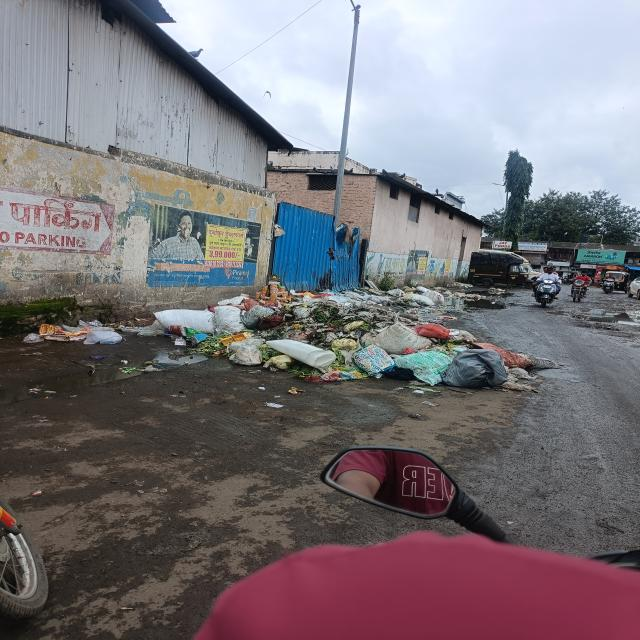garbage: (150, 292, 518, 404), (30, 315, 132, 349)
